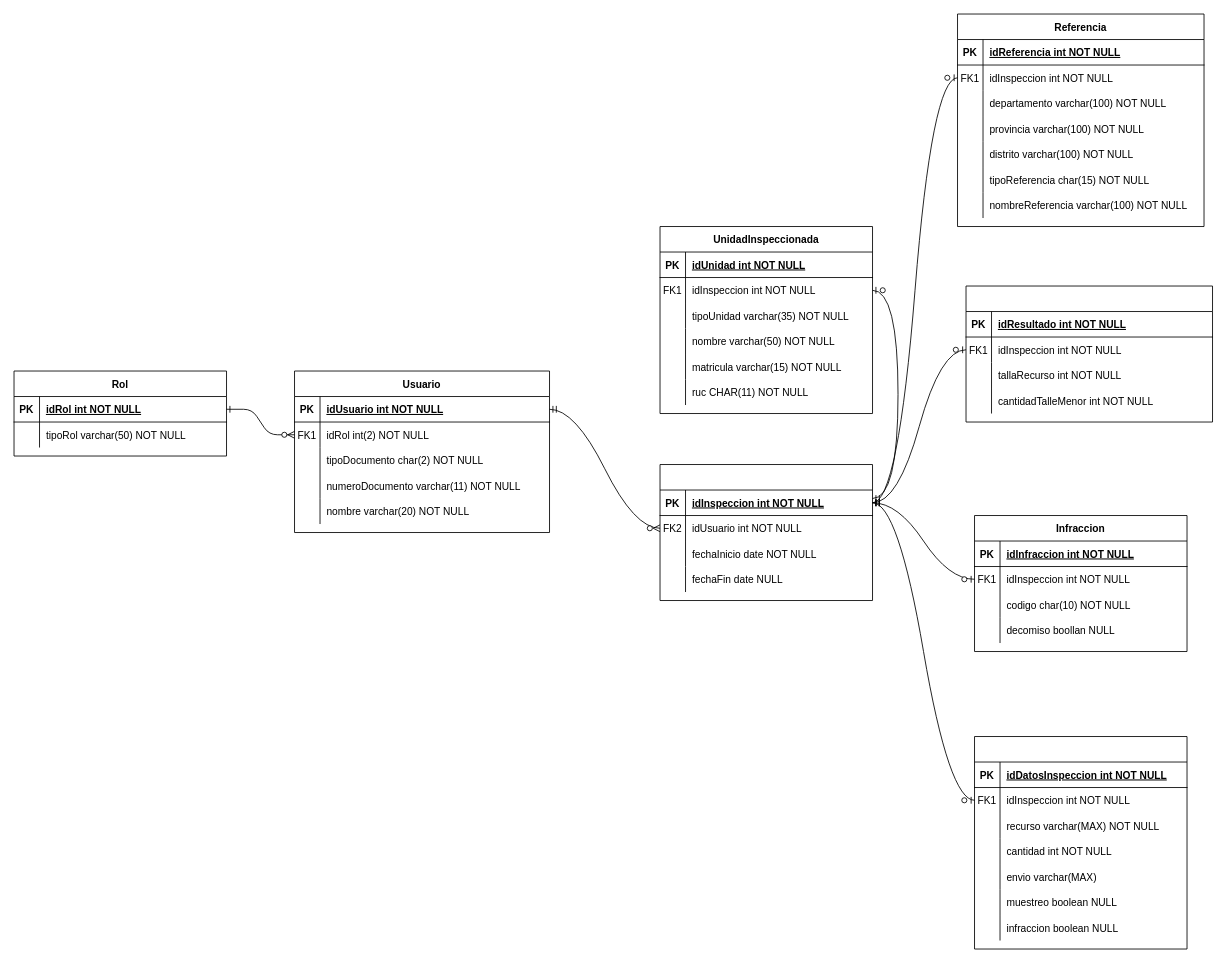
The diagram is 1227 pixels wide and 963 high, and some of its shapes have lost their labels. The box of each missing label's shape, as (x1, y1, x2, y2) in pixels:
DatosInspección: (974, 736, 1187, 949)
Inspección: (659, 464, 873, 601)
ResultadosMuestra: (965, 285, 1213, 422)
